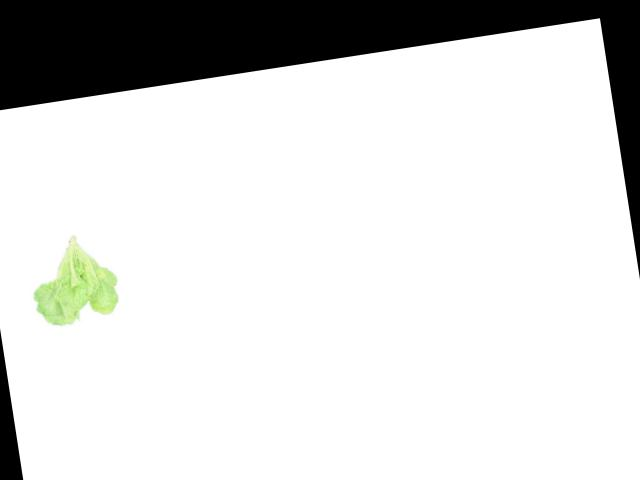lettuce: (20, 227, 126, 335)
